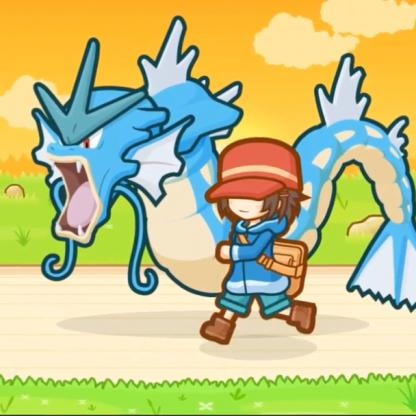Gyarados: (16, 36, 208, 301)
